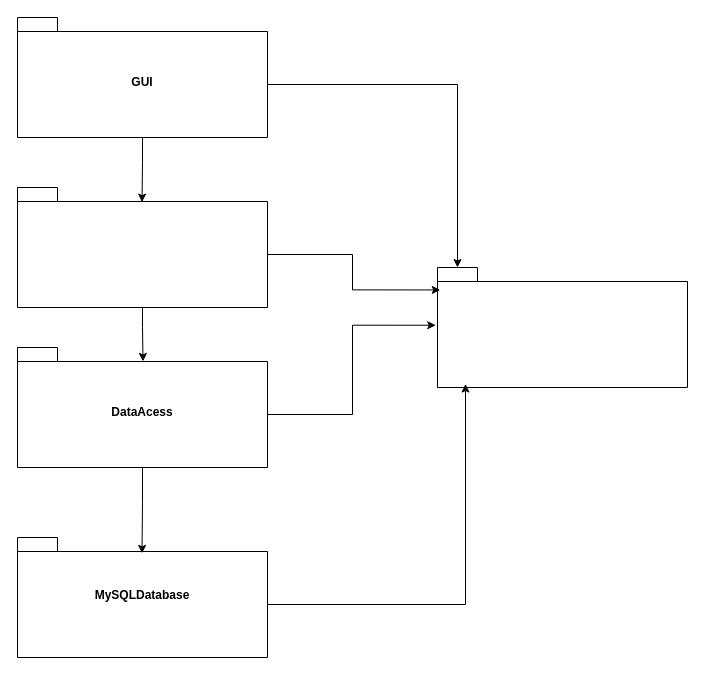
The diagram is 705 pixels wide and 675 high, and some of its shapes have lost their labels. The centre of each missing label's shape, as x and y in pixels:
"BuisinessLogic" belongs at (142,247).
"Model" belongs at (562,327).
